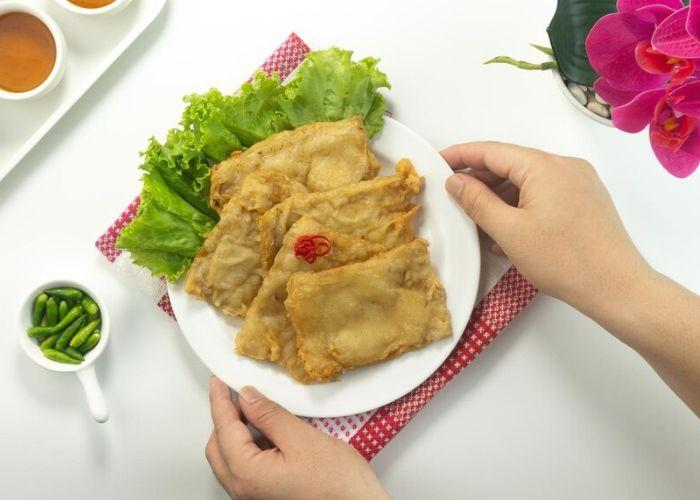buah_sayur_lainnya: (205, 100, 288, 135), (35, 292, 84, 348)
kacang_legume: (227, 178, 407, 314)
